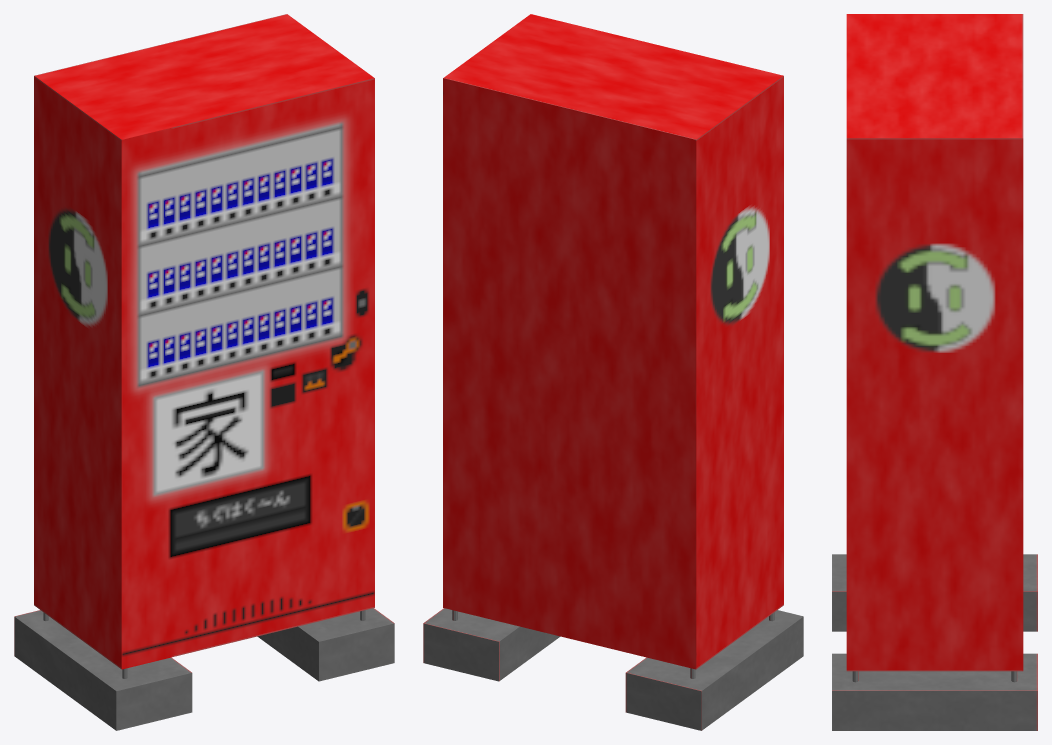
File: VendingMachine.fbx
3 renders of one model, left to right at view 1: azimuth 30°, elevation 25°; view 2: azimuth 150°, elevation 25°; view 3: azimuth 270°, elevation 25°, orthographic.
Visible parts, largest first — view 1: Mesh; view 2: Mesh; view 3: Mesh.
Boxes of the visible parts, <box> form: Mesh: <box>14,14,394,730</box>; Mesh: <box>423,14,803,730</box>; Mesh: <box>832,14,1037,730</box>.
Size of the model in its own units: 1.1 by 2.2 by 0.7.
